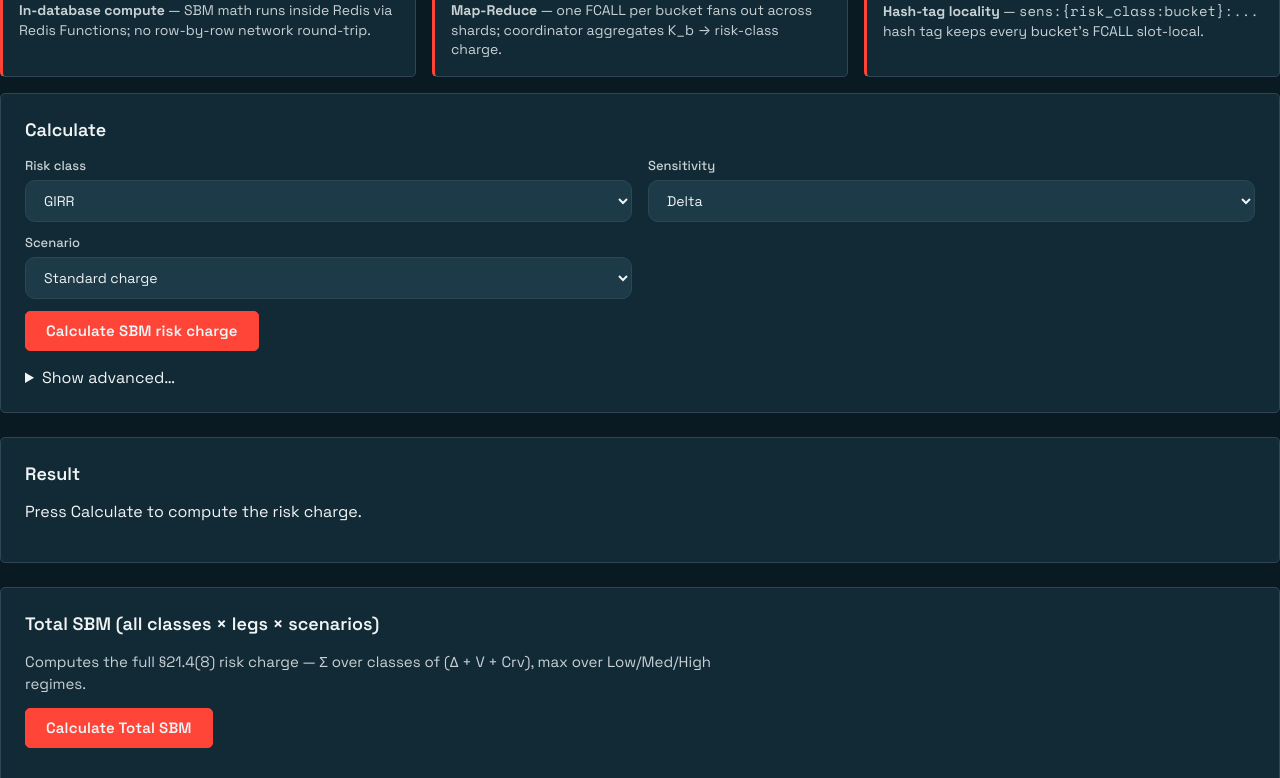
Test: <CalcPanel /> — Total SBM card (Wave 5.96B) › marks the binding scenario column with the --winner modifier
The width and height of the screenshot is (1280, 778).
(page scrolled)
Click the button with test id "calc-total-cta". click: (119, 728)
box: [25,708,213,748]
(page scrolled)
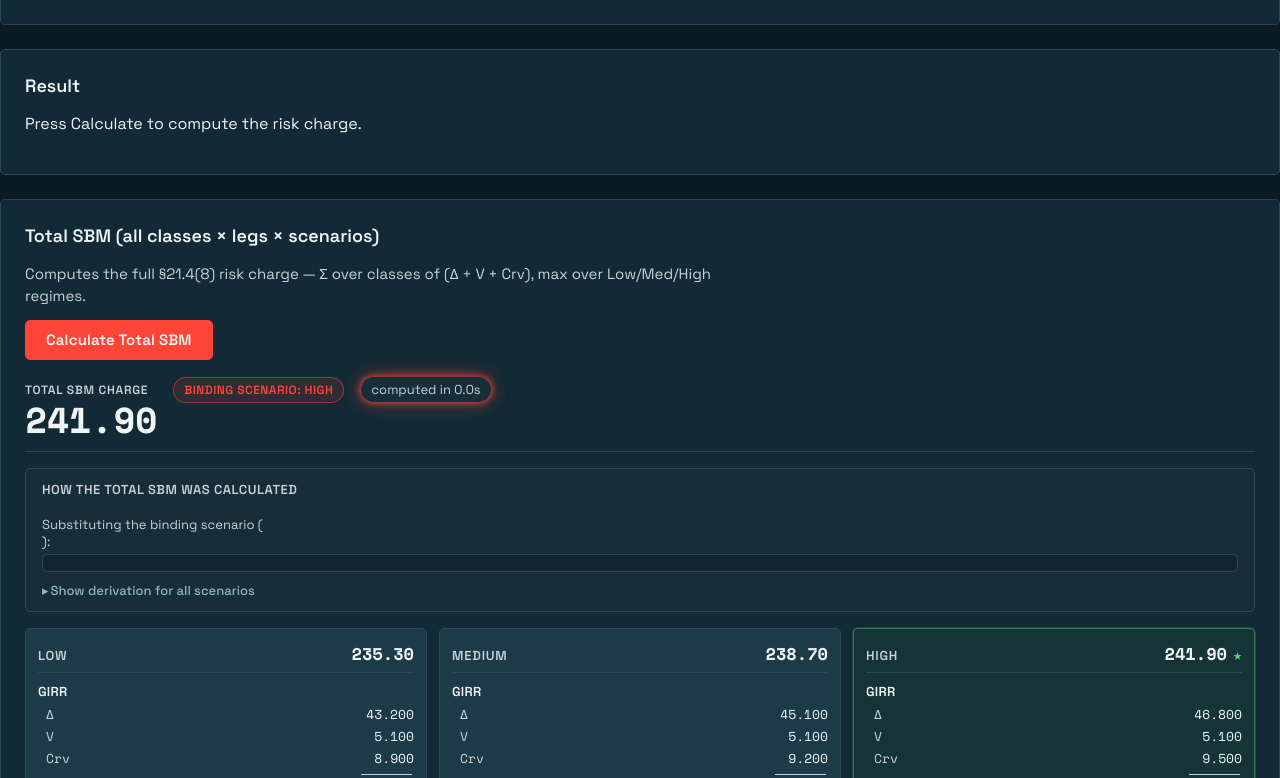
Result: the text with test id "calc-total-winner-pill" reads "binding scenario: HIGH" at [173,377,344,403]
